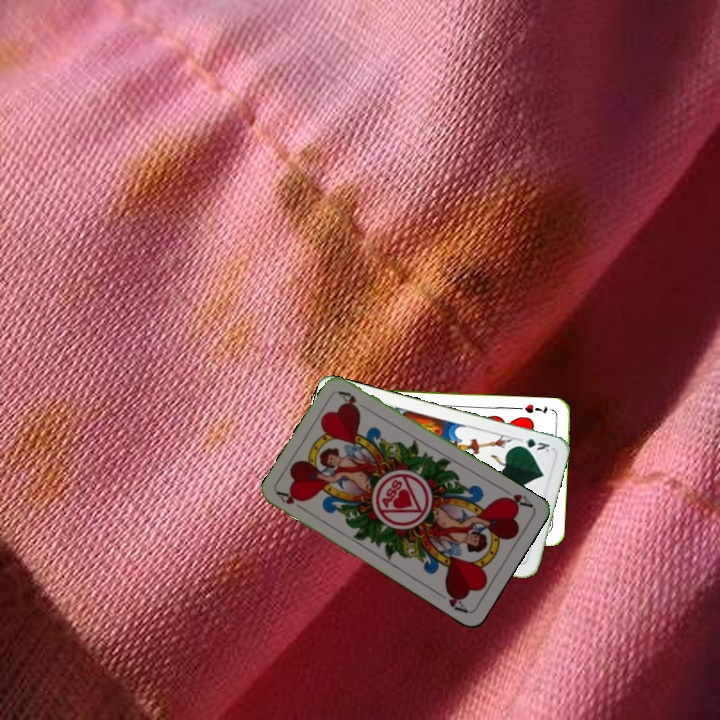GK: (513, 434, 552, 455)
H7: (521, 400, 550, 416)
HA: (273, 487, 310, 515), (497, 484, 535, 510)
